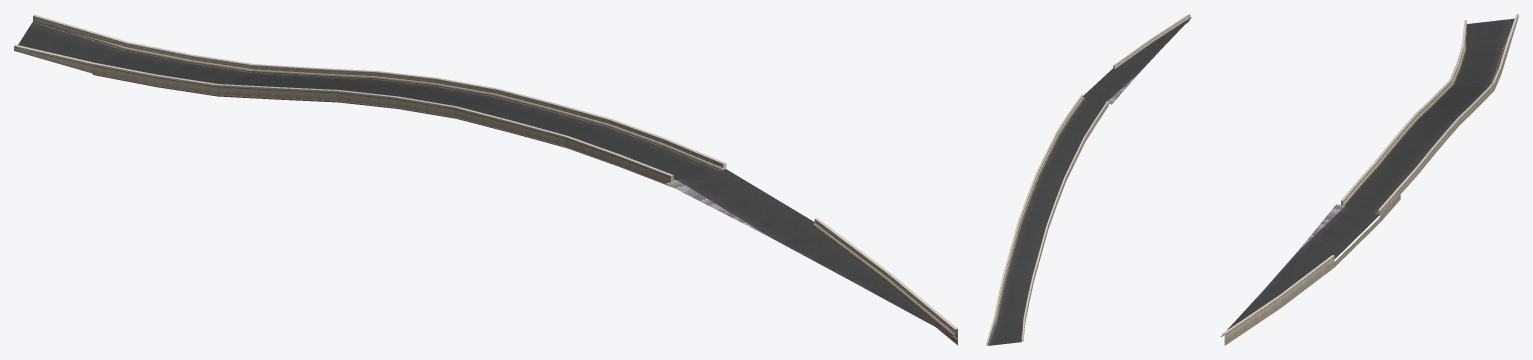
Rendered from roadssfse17.obj.
The picture shows the model from 3 angles, left to right: view 1: azimuth 30°, elevation 25°; view 2: azimuth 150°, elevation 25°; view 3: azimuth 330°, elevation 25°; orthographic projection. The views are drawn at different scales.
Parts seen in each view (by area): view 1: roadsSFSE17; view 2: roadsSFSE17; view 3: roadsSFSE17.
Boxes of the visible parts, box(x1,y1,x2,y2) form: roadsSFSE17: box(14, 14, 957, 345); roadsSFSE17: box(986, 14, 1191, 345); roadsSFSE17: box(1221, 14, 1518, 345).
Size of the model in its own units: 63.75 by 24.52 by 235.
Materials: 3 (3 with a texture image).
